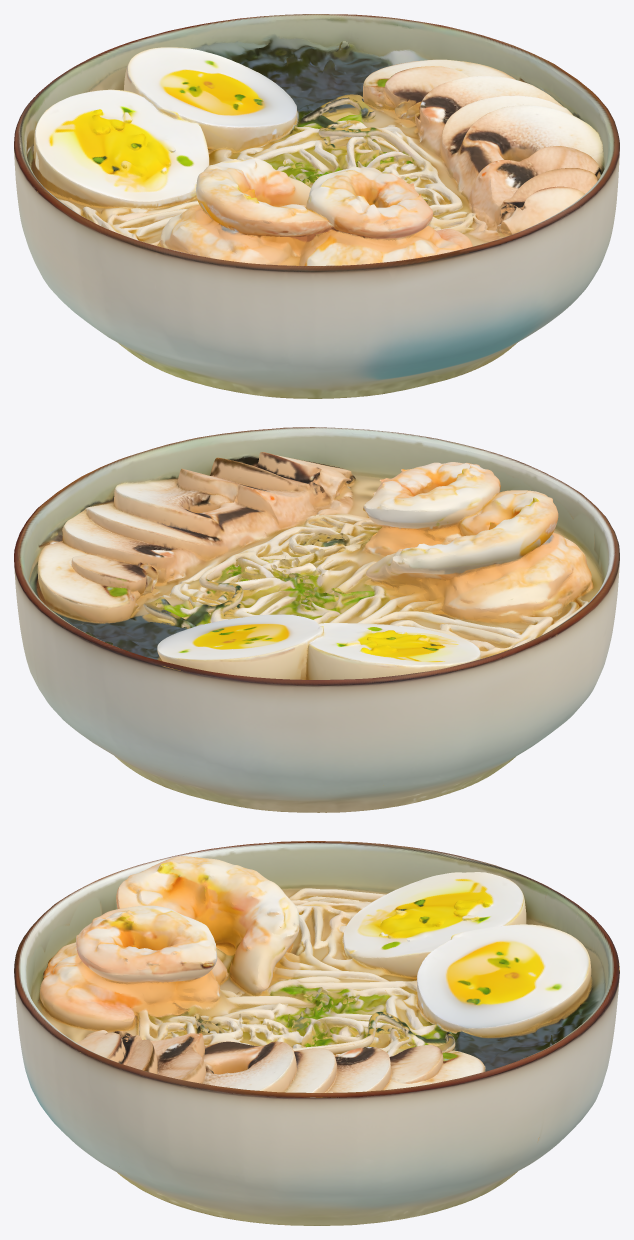
File: asian_plat1_shaded.glb
3 views of the same model, one above another, from view 1: azimuth 30°, elevation 25°; view 2: azimuth 150°, elevation 25°; view 3: azimuth 270°, elevation 25° (orthographic).
Visible parts, largest first — view 1: model; view 2: model; view 3: model.
Part boxes in pixels (x1,y1,x2,y2): model: (14,14,619,398); model: (14,427,619,812); model: (14,841,619,1225).
Bounding box in the file's own units: 1.9 × 0.6983 × 1.9.
Materials: 1 (1 with a texture image).
